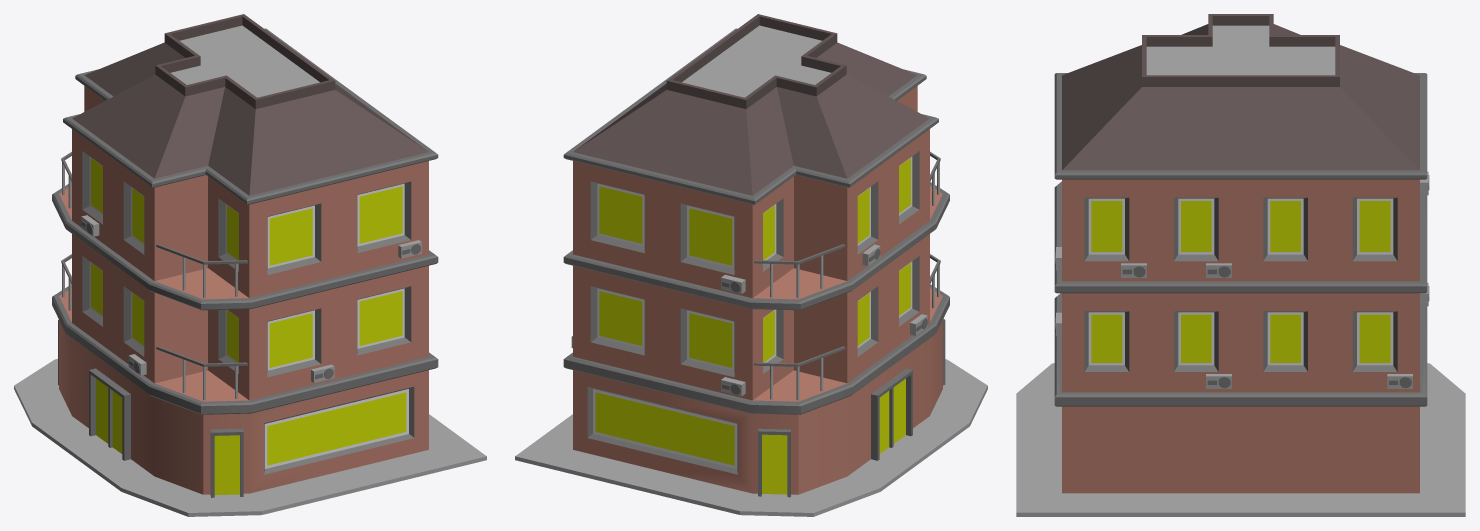
File: Home_V2.fbx
3 renders of one model, left to right at view 1: azimuth 30°, elevation 25°; view 2: azimuth 150°, elevation 25°; view 3: azimuth 270°, elevation 25°, orthographic. The views are drawn at different scales.
Parts seen in each view (by area): view 1: Home_2; view 2: Home_2; view 3: Home_2.
Boxes of the visible parts, x1,y1,x2,y2 form: Home_2: [14, 14, 486, 516]; Home_2: [515, 14, 987, 516]; Home_2: [1016, 14, 1465, 516].
Size of the model in its own units: 17.17 by 19.36 by 20.1.
